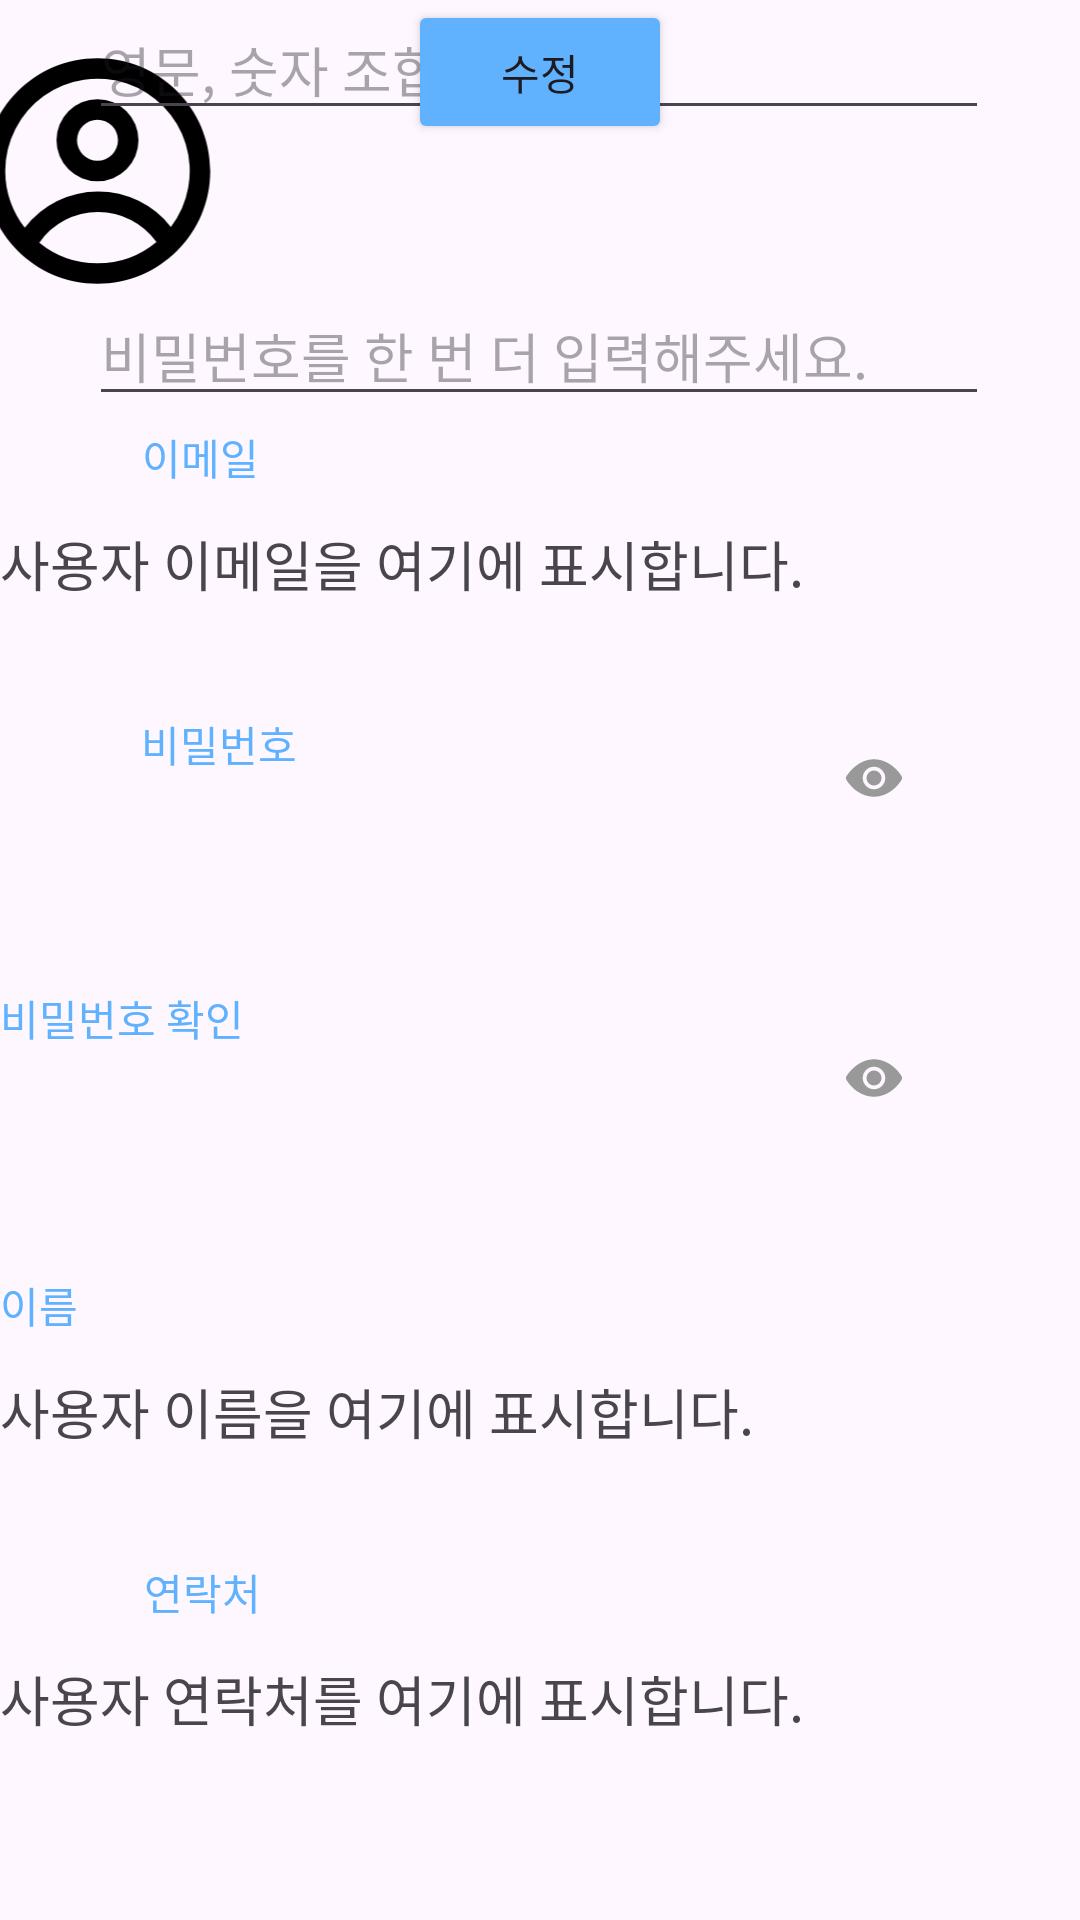

Named icons in this screenshot (1080 × 1920) and their bounding boxes, (x1, y1, x2, y2):
eye: (846, 759, 902, 797), (846, 1059, 902, 1097)
